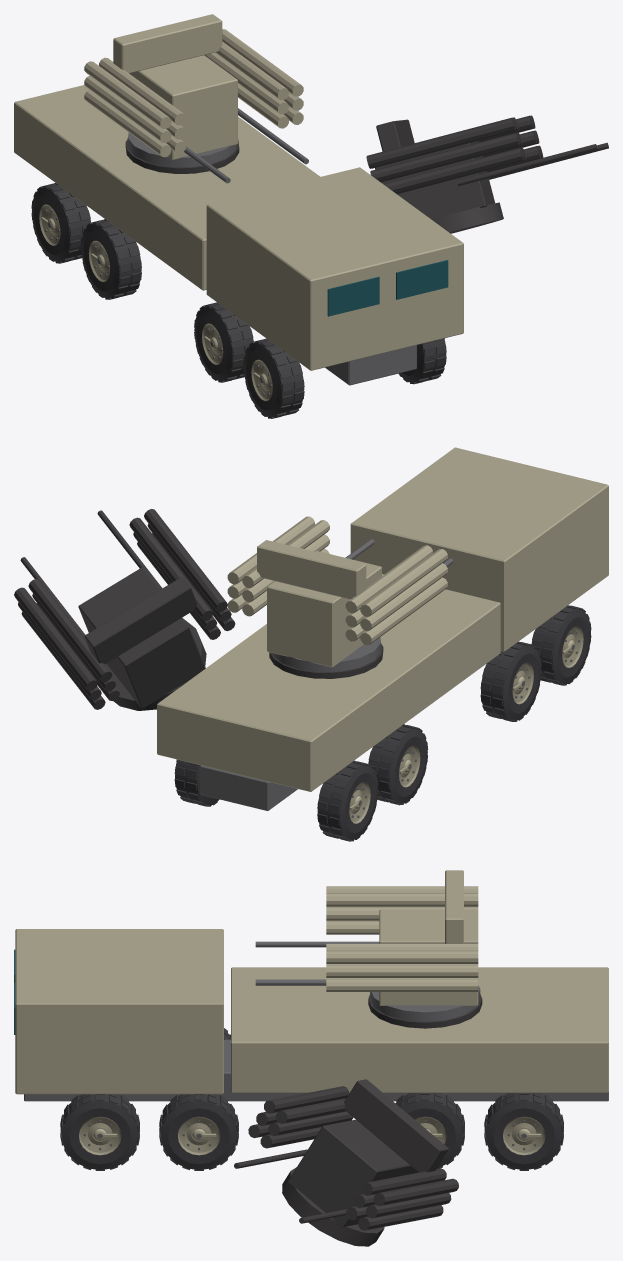
File: aaVehicle__pantsir_s1.glb
3 renders of one model, top to bottom at view 1: azimuth 30°, elevation 25°; view 2: azimuth 150°, elevation 25°; view 3: azimuth 270°, elevation 25°, orthographic.
Visible parts, largest first — view 1: Hull_Mesh, Wreck, Turret_Mesh, Gun_Mesh, Wheel_L1_Mesh, Wheel_L3_Mesh, Wheel_L0_Mesh, Wheel_L2_Mesh, Wheel_R3_Mesh; view 2: Hull_Mesh, Wreck, Turret_Mesh, Gun_Mesh, Wheel_L0_Mesh, Wheel_L2_Mesh, Wheel_L1_Mesh, Wheel_L3_Mesh, Wheel_R0_Mesh; view 3: Hull_Mesh, Wreck, Gun_Mesh, Turret_Mesh, Wheel_R0_Mesh, Wheel_R2_Mesh, Wheel_R3_Mesh, Wheel_R1_Mesh.
Boxes of the visible parts, bbox=[...] form: Hull_Mesh: bbox=[14, 85, 463, 385]; Wreck: bbox=[49, 115, 608, 418]; Turret_Mesh: bbox=[113, 14, 237, 167]; Gun_Mesh: bbox=[84, 29, 308, 183]; Wheel_L1_Mesh: bbox=[81, 219, 141, 299]; Wheel_L3_Mesh: bbox=[243, 338, 304, 418]; Wheel_L0_Mesh: bbox=[31, 183, 91, 263]; Wheel_L2_Mesh: bbox=[194, 302, 253, 382]; Wheel_R3_Mesh: bbox=[399, 338, 446, 384]; Hull_Mesh: bbox=[157, 447, 608, 810]; Wreck: bbox=[14, 509, 562, 841]; Turret_Mesh: bbox=[257, 540, 381, 672]; Gun_Mesh: bbox=[227, 516, 453, 645]; Wheel_L0_Mesh: bbox=[317, 760, 378, 841]; Wheel_L2_Mesh: bbox=[480, 641, 541, 721]; Wheel_L1_Mesh: bbox=[368, 724, 428, 805]; Wheel_L3_Mesh: bbox=[531, 605, 591, 685]; Wheel_R0_Mesh: bbox=[174, 759, 219, 806]; Hull_Mesh: bbox=[14, 929, 608, 1101]; Wreck: bbox=[234, 994, 482, 1246]; Gun_Mesh: bbox=[255, 886, 478, 991]; Turret_Mesh: bbox=[370, 870, 480, 1021]; Wheel_R0_Mesh: bbox=[484, 1093, 563, 1170]; Wheel_R2_Mesh: bbox=[159, 1094, 238, 1170]; Wheel_R3_Mesh: bbox=[60, 1094, 139, 1170]; Wheel_R1_Mesh: bbox=[395, 1093, 464, 1168].
Size of what is drawn, in the model's own units: 7.33 by 3.7 by 8.42.
